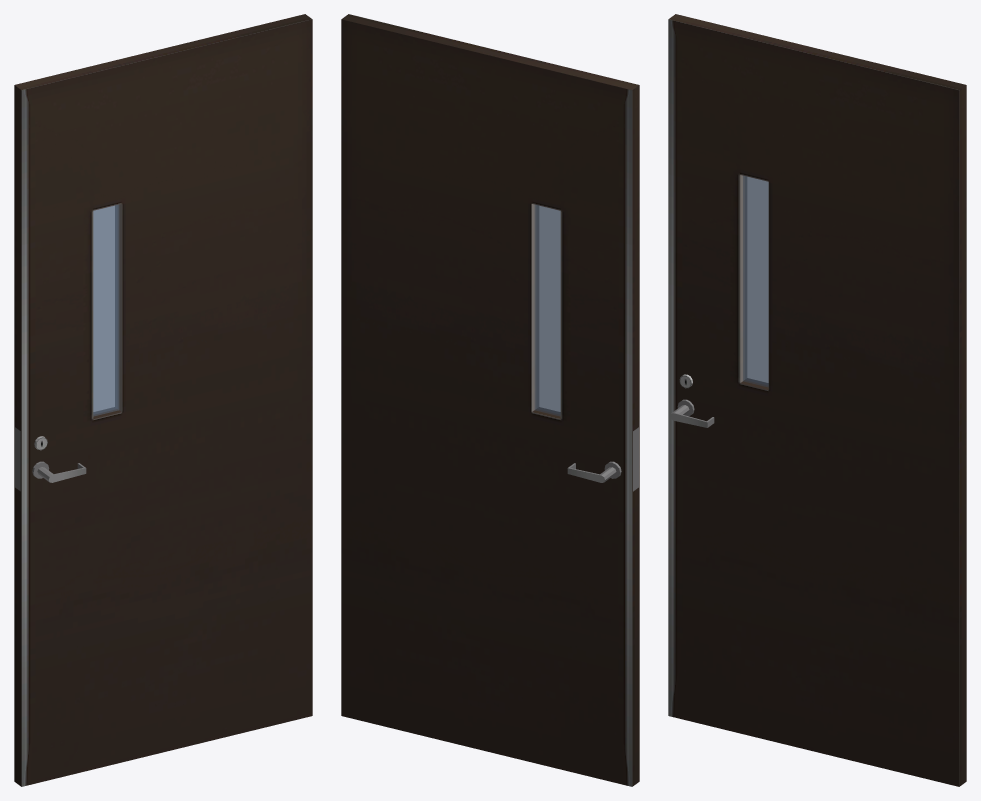
Rendered from Door_Sm.fbx.
3 renders of one model, left to right at view 1: azimuth 30°, elevation 25°; view 2: azimuth 150°, elevation 25°; view 3: azimuth 330°, elevation 25°, orthographic.
Parts seen in each view (by area): view 1: Door_Sm; view 2: Door_Sm; view 3: Door_Sm.
Boxes of the visible parts, left/top/right/bottom form: Door_Sm: left=14, top=14, right=312, bottom=786; Door_Sm: left=341, top=14, right=639, bottom=786; Door_Sm: left=668, top=14, right=966, bottom=786.
Size of the model in its own units: 92.78 by 212 by 18.17.
Materials: 2 (1 with a texture image).
